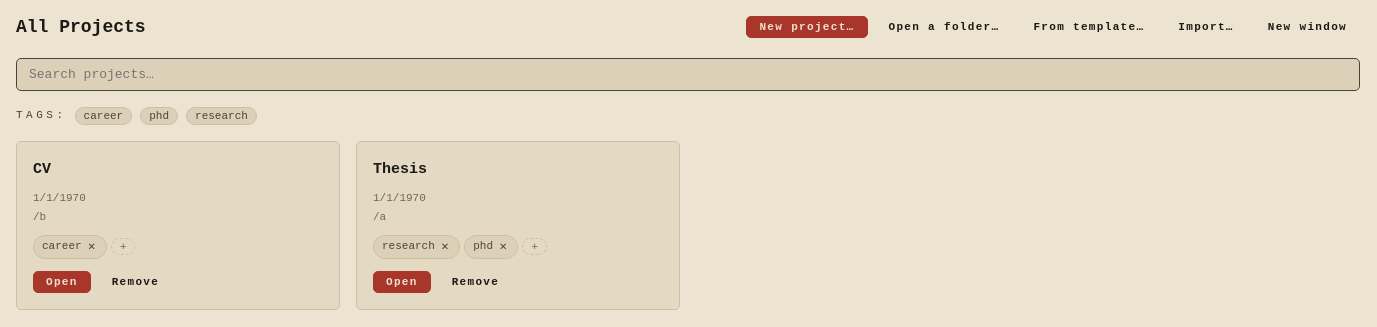
Scenario: ProjectDashboard tag filters › clears the tag filter when the same pill is clicked again
Click the button "career": [103, 116] box [75,107,132,125]
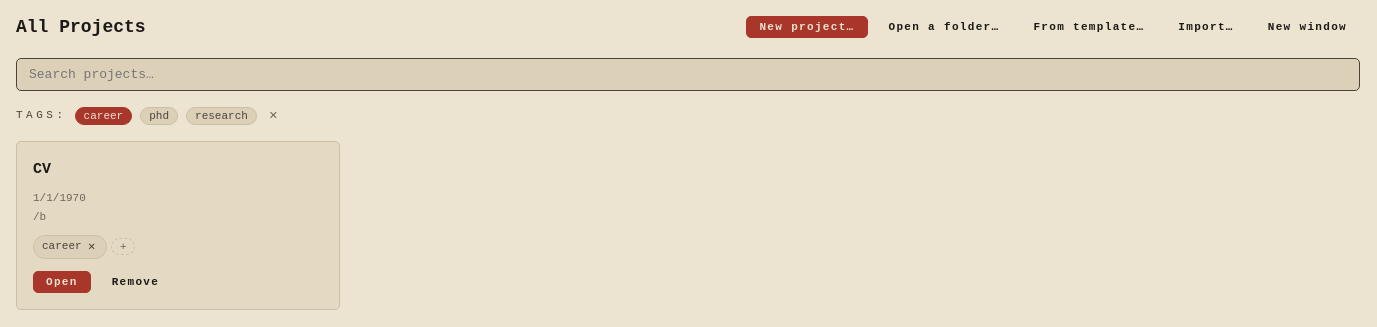
Click the button "career": [103, 116] box [75,107,132,125]
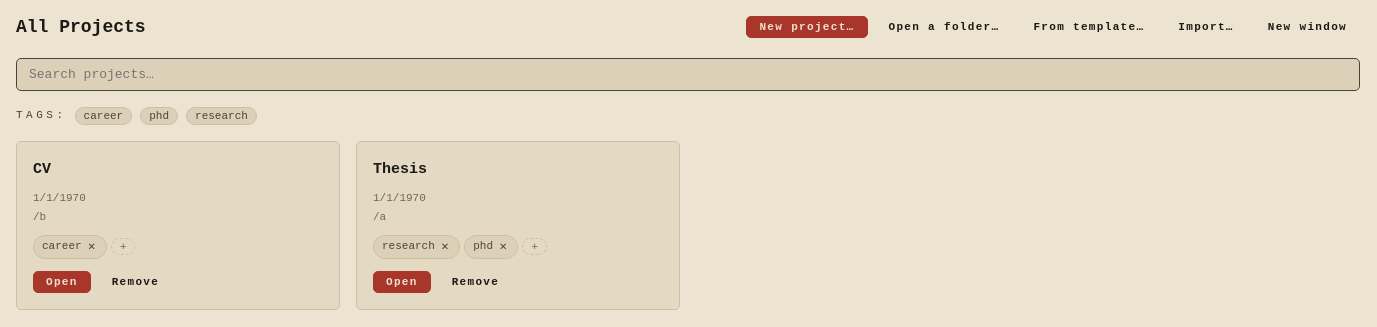
Expected: the text "CV" is shown, [33,161,51,178]
Result: the text "Thesis" is shown at [373,161,427,178]
